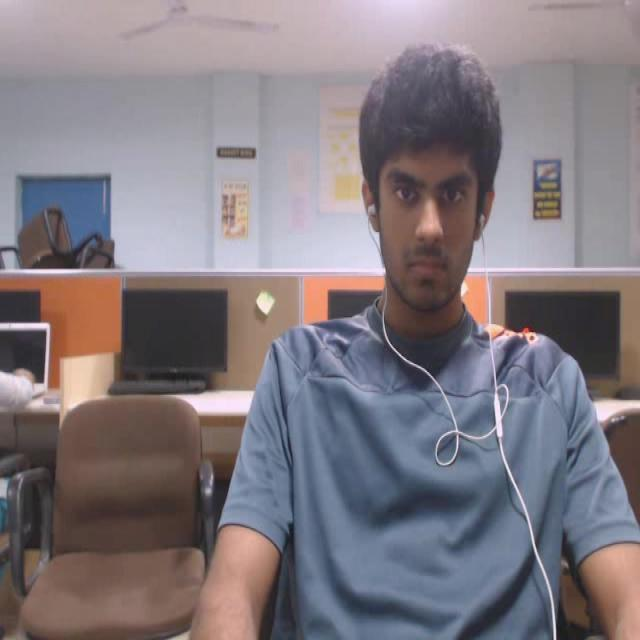Engaged: (336, 37, 518, 334)
